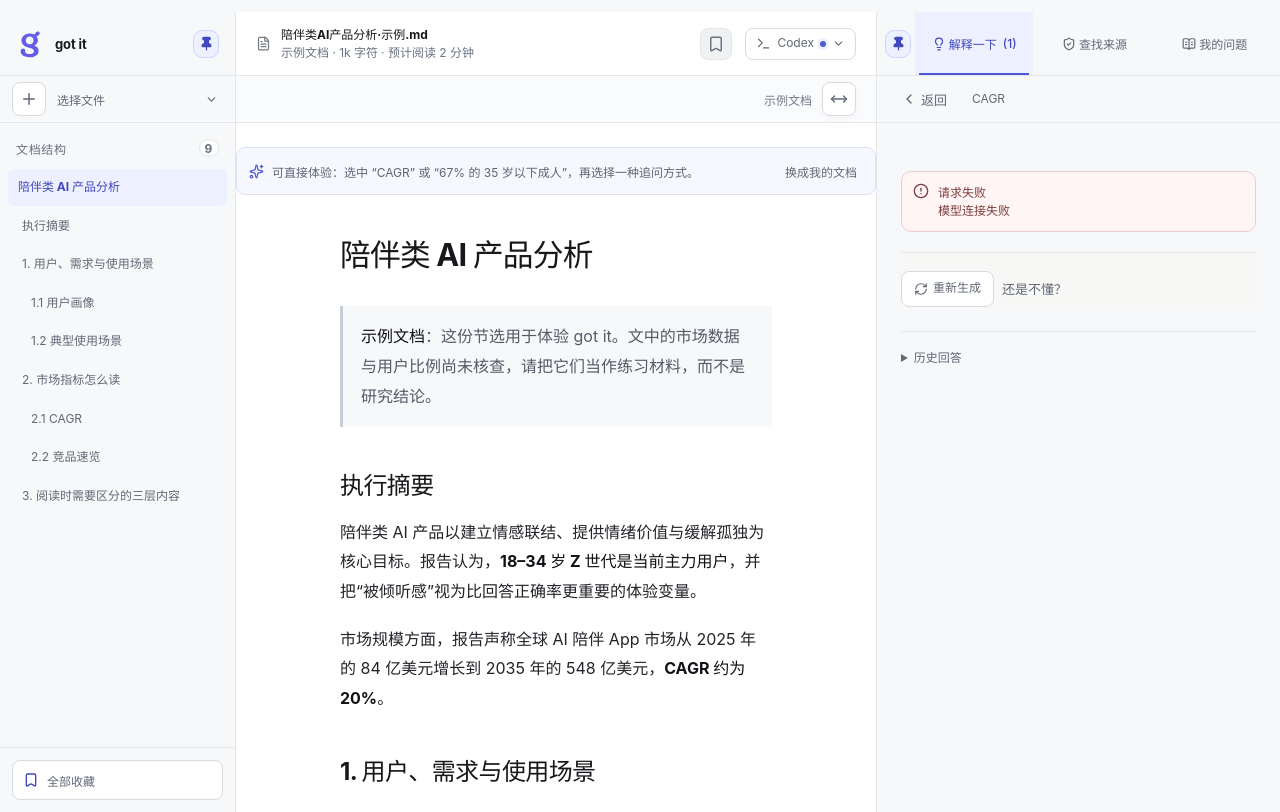
Test: only exposes regeneration after failure for explain and hides it during retry and after success
This screenshot has width=1280, height=812.
Click the button with class "regenerate-action" at (948, 289), box left=901, top=271, right=994, bottom=307
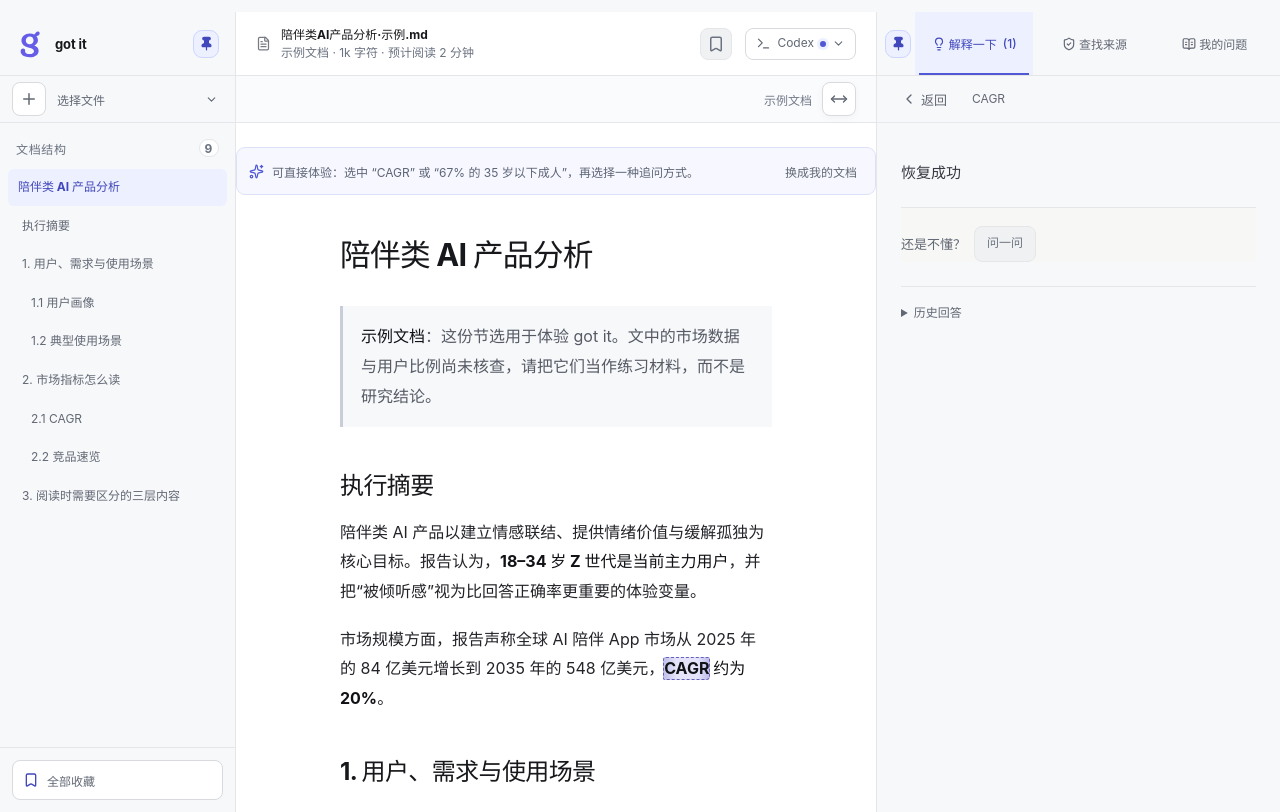
Result: the button with class "regenerate-action" is gone
Result: the text "恢复成功" is shown at left=901, top=163, right=961, bottom=182
